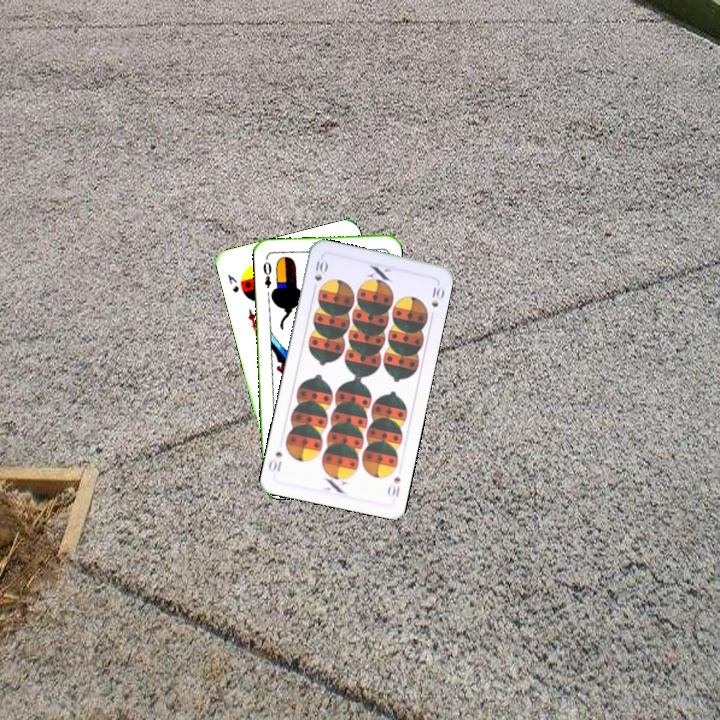EO: (259, 258, 274, 290)
S10: (309, 256, 329, 294), (383, 473, 403, 500)
SK: (224, 270, 241, 295)
